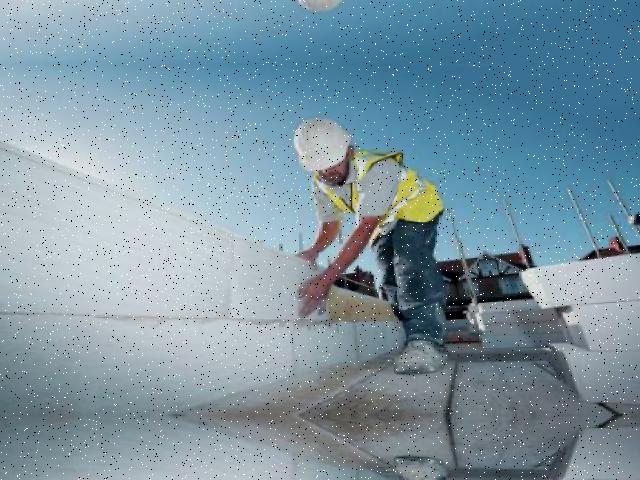Helmet: (289, 112, 357, 179)
